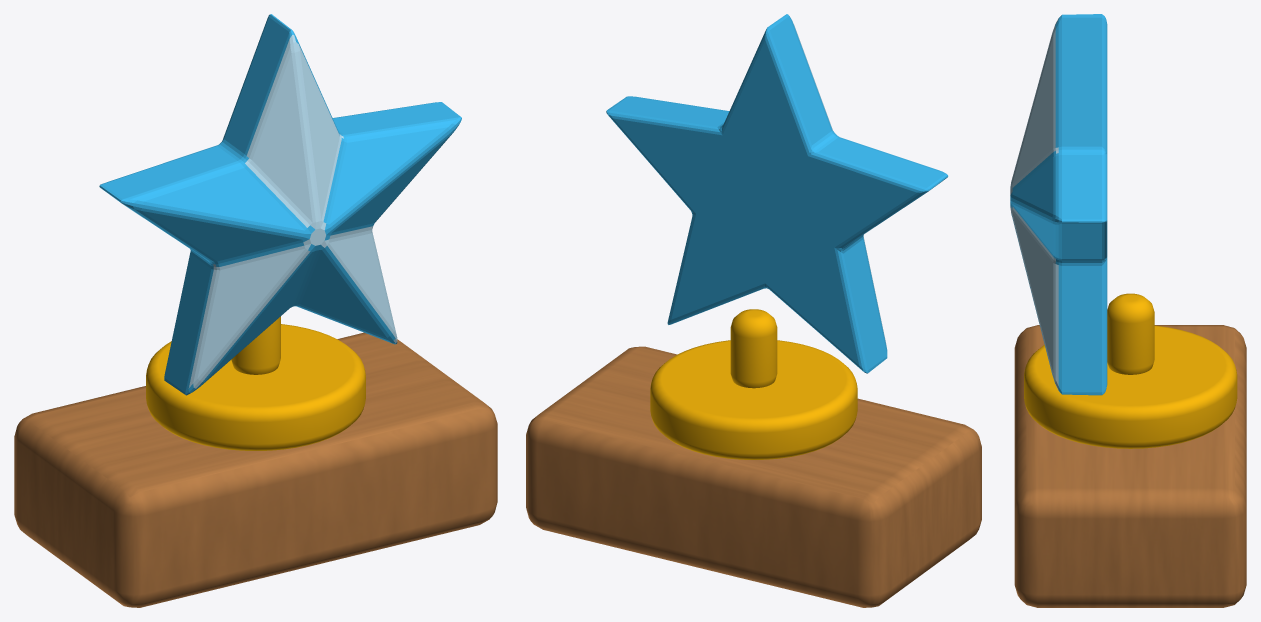
File: display-diamond.glb
3 renders of one model, left to right at view 1: azimuth 30°, elevation 25°; view 2: azimuth 150°, elevation 25°; view 3: azimuth 270°, elevation 25°, orthographic. The views are drawn at different scales.
Visible parts, largest first — view 1: Wooden award plinth.007, Star.004, Star foot.004, Star support.004; view 2: Wooden award plinth.007, Star.004, Star foot.004, Star support.004; view 3: Wooden award plinth.007, Star.004, Star foot.004, Star support.004.
Part boxes in pixels (<box>): Wooden award plinth.007: <box>14,332,497,607</box>; Star.004: <box>99,14,461,395</box>; Star foot.004: <box>146,324,365,450</box>; Star support.004: <box>231,316,280,374</box>; Wooden award plinth.007: <box>526,346,981,607</box>; Star.004: <box>606,14,948,373</box>; Star foot.004: <box>650,340,857,459</box>; Star support.004: <box>730,309,777,388</box>; Wooden award plinth.007: <box>1014,325,1246,607</box>; Star.004: <box>1010,14,1107,395</box>; Star foot.004: <box>1024,325,1237,448</box>; Star support.004: <box>1107,293,1154,374</box>.
Size of the model in its own units: 0.46 by 0.6073 by 0.2547.
4 materials, 1 textured.
